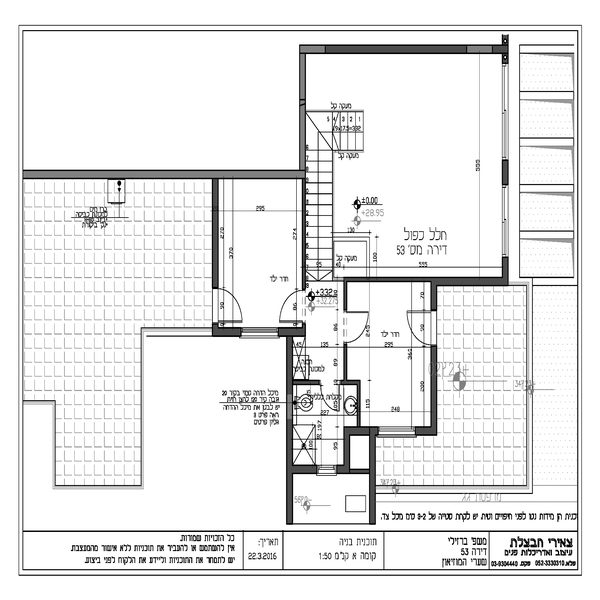door: (207, 287, 246, 324), (404, 304, 438, 345), (277, 288, 308, 330), (344, 311, 372, 346), (320, 378, 343, 416)
room: (297, 36, 510, 284), (211, 164, 312, 340), (341, 279, 439, 436), (285, 375, 352, 472)
wall: (25, 167, 305, 182), (299, 42, 512, 60), (345, 272, 509, 289), (208, 175, 223, 287), (367, 431, 383, 526), (284, 335, 292, 524), (297, 44, 308, 174), (428, 347, 440, 437), (351, 378, 364, 429), (344, 421, 374, 442), (288, 374, 324, 390), (342, 425, 352, 477), (339, 276, 352, 313), (427, 278, 440, 314), (210, 324, 241, 339), (500, 155, 513, 188), (343, 344, 352, 384), (281, 327, 305, 340)
window: (498, 185, 517, 254), (500, 71, 514, 157), (377, 424, 416, 441), (315, 465, 337, 475)
